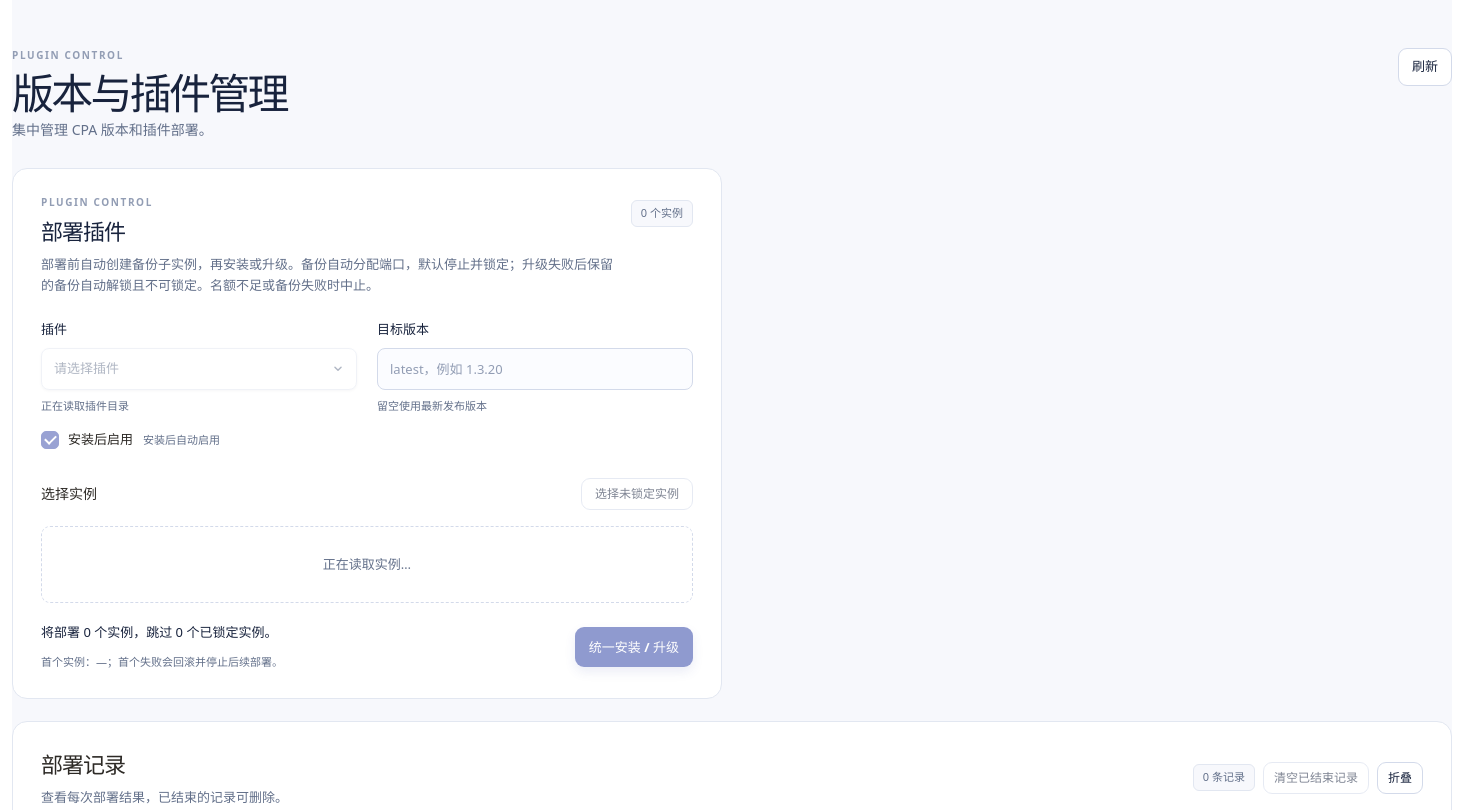
Test: deployment history can be collapsed as a whole
This screenshot has width=1464, height=810.
Click the button "折叠": x=1400, y=778 [1377,762,1423,794]
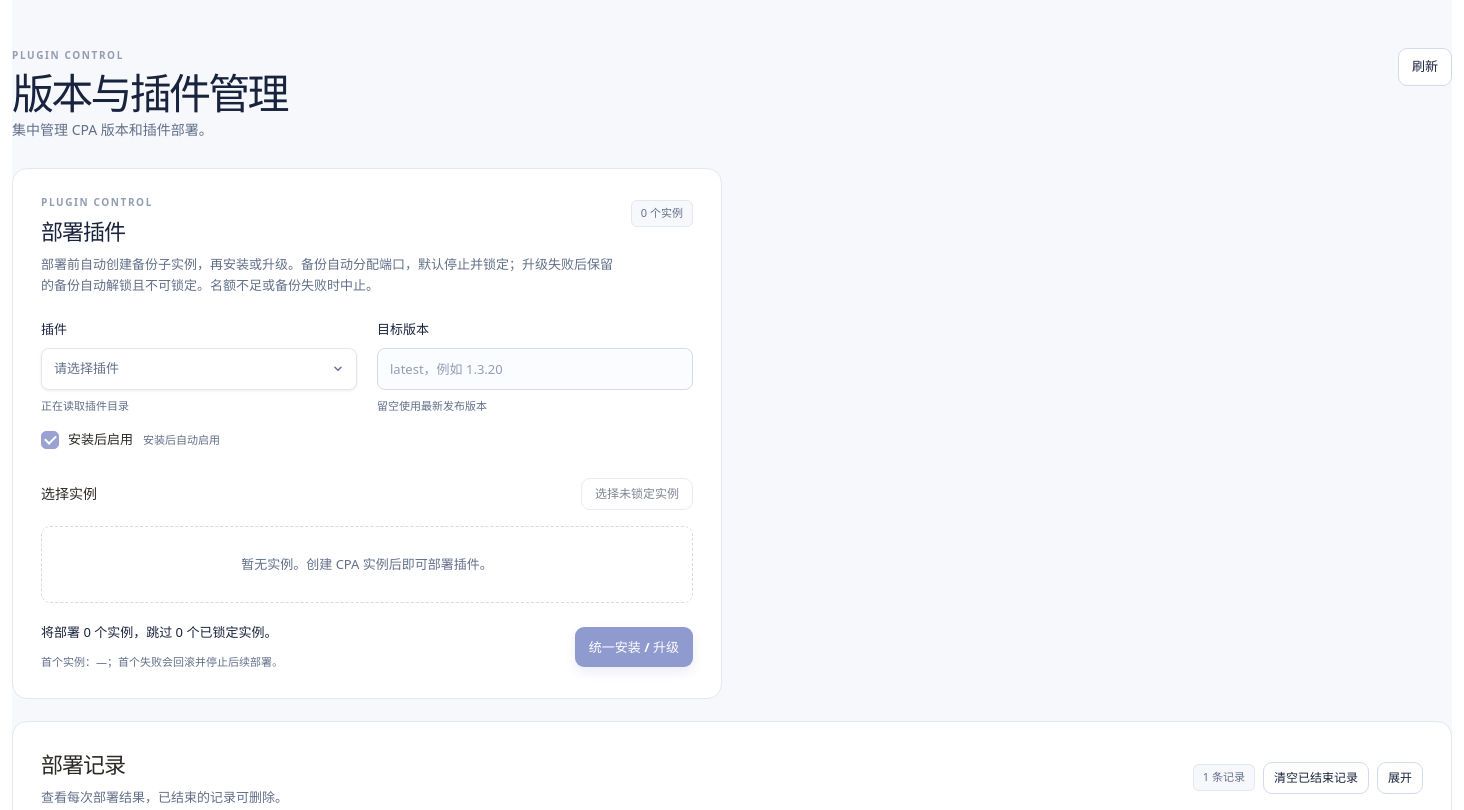
Check: the button named "折叠" is collapsed
Click the button "展开": x=1400, y=778 [1377,762,1423,794]
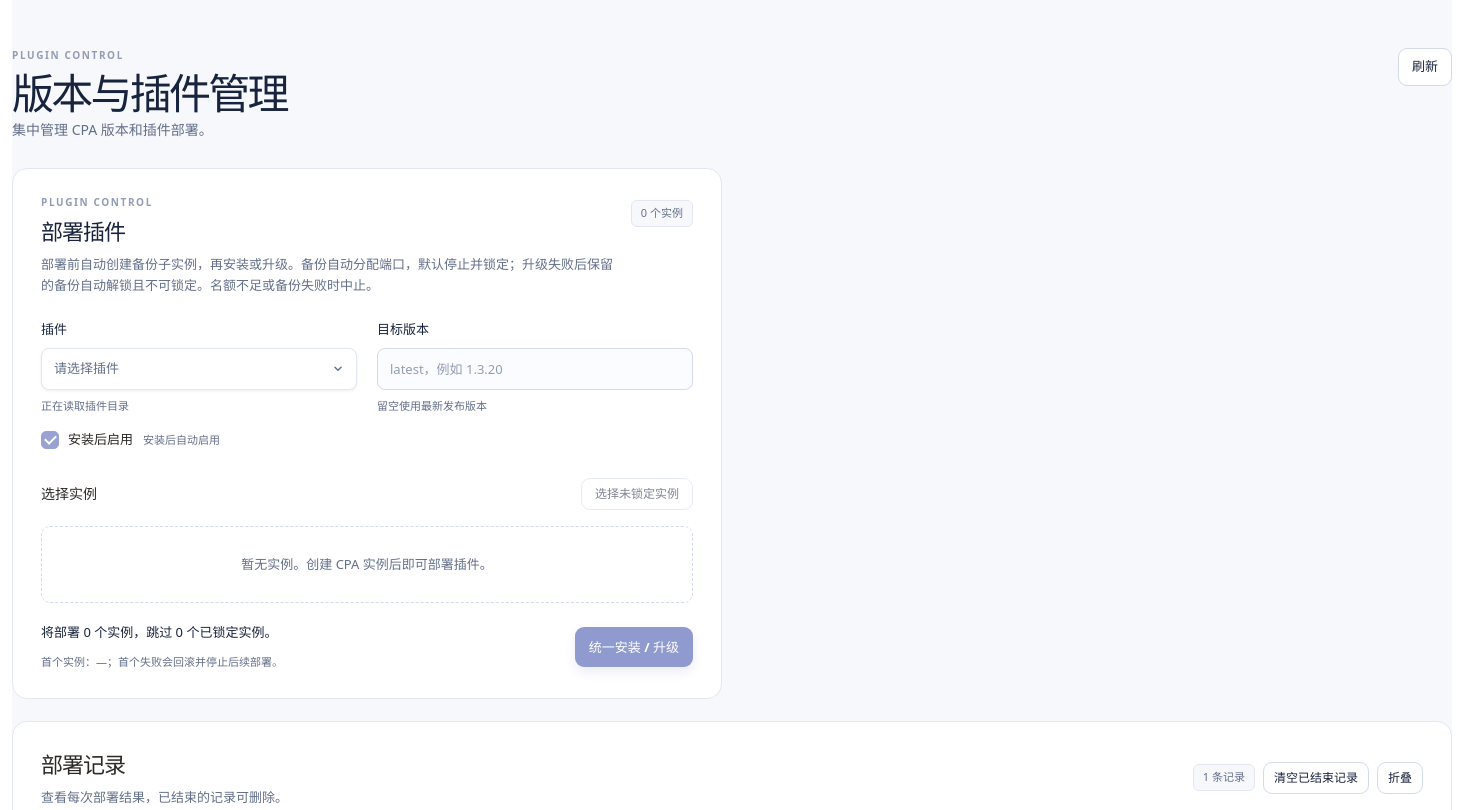
Check: the button "折叠" is expanded, box [1377,762,1423,794]
